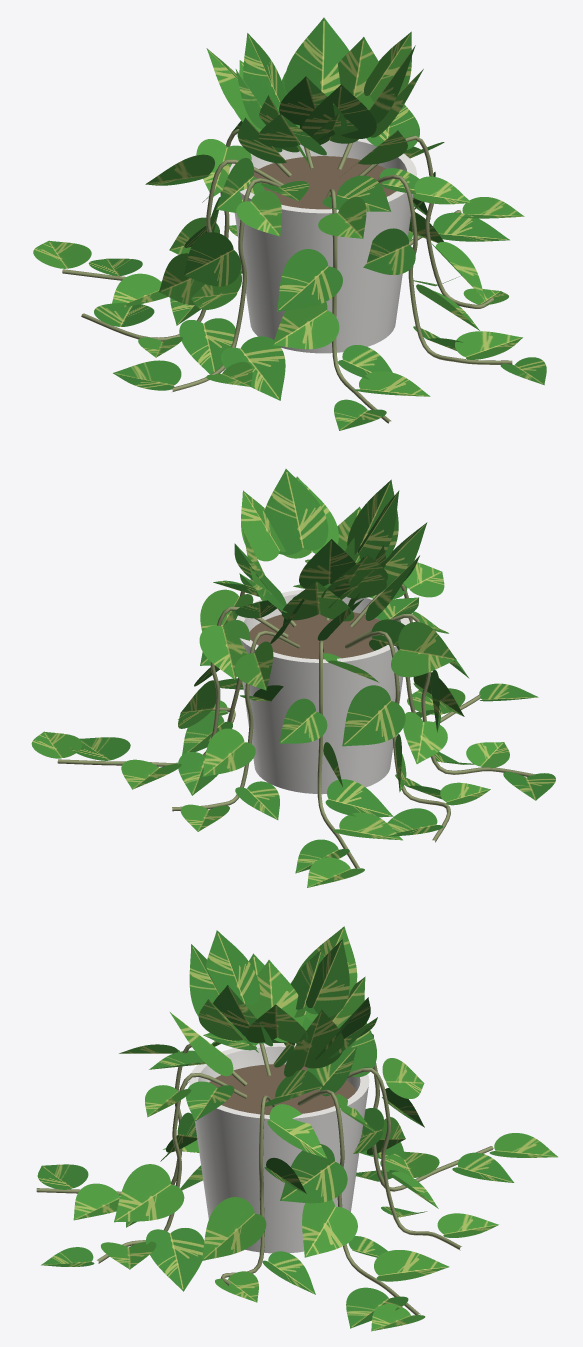
File: obj-pothos-trailing.glb
3 renders of one model, top to bottom at view 1: azimuth 30°, elevation 25°; view 2: azimuth 150°, elevation 25°; view 3: azimuth 270°, elevation 25°, orthographic. The views are drawn at different scales.
Parts seen in each view (by area): view 1: obj-pothos-trailing; view 2: obj-pothos-trailing; view 3: obj-pothos-trailing.
Boxes of the visible parts, <box> form: obj-pothos-trailing: <box>33,17,546,430</box>; obj-pothos-trailing: <box>31,469,555,887</box>; obj-pothos-trailing: <box>36,926,557,1331</box>.
Size of the model in its own units: 0.5057 by 0.2895 by 0.4924.
Materials: 5 (2 with a texture image).
